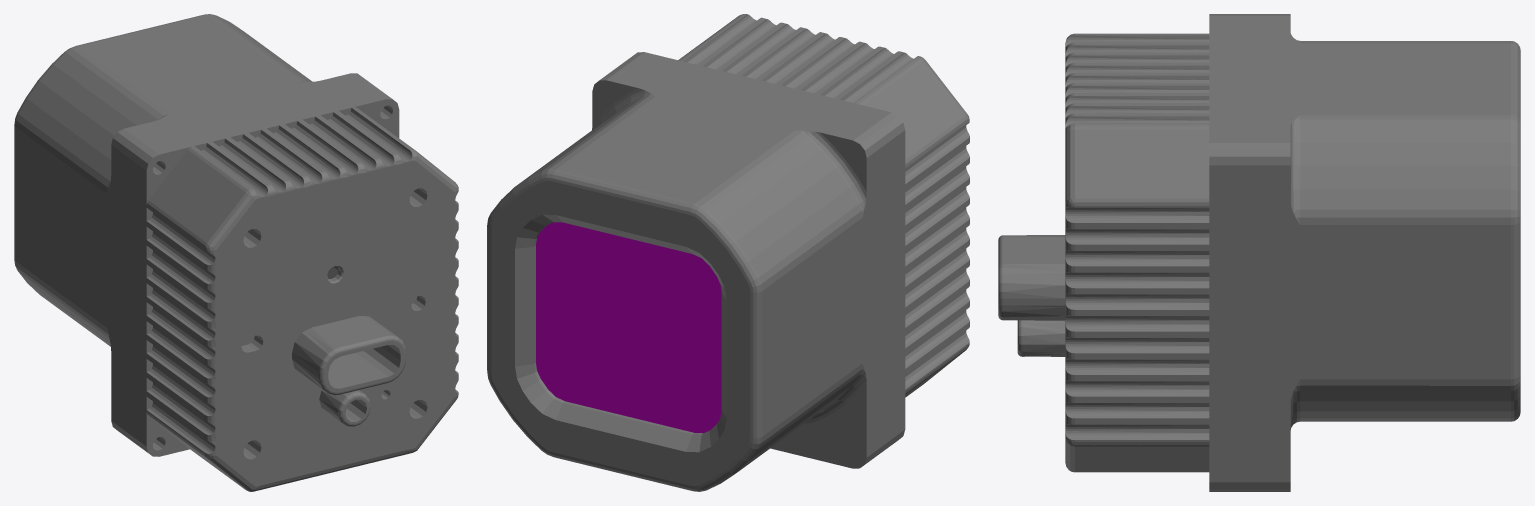
The model's file is adk.dae.
3 views of the same model, side by side, from view 1: azimuth 30°, elevation 25°; view 2: azimuth 150°, elevation 25°; view 3: azimuth 270°, elevation 25° (orthographic). The views are drawn at different scales.
Parts seen in each view (by area): view 1: Shape_IndexedFaceSet_001, Shape_IndexedFaceSet_002; view 2: Shape_IndexedFaceSet_002, Shape_IndexedFaceSet_001, Shape_IndexedFaceSet; view 3: Shape_IndexedFaceSet_002, Shape_IndexedFaceSet_001.
Part boxes in pixels (<box>): Shape_IndexedFaceSet_001: <box>140,94,458,491</box>; Shape_IndexedFaceSet_002: <box>14,14,386,448</box>; Shape_IndexedFaceSet_002: <box>487,57,898,491</box>; Shape_IndexedFaceSet_001: <box>631,14,969,443</box>; Shape_IndexedFaceSet: <box>536,222,721,433</box>; Shape_IndexedFaceSet_002: <box>1223,14,1520,491</box>; Shape_IndexedFaceSet_001: <box>998,14,1223,491</box>.
Bounding box in the file's own units: 0.035 × 0.0545 × 0.04.
